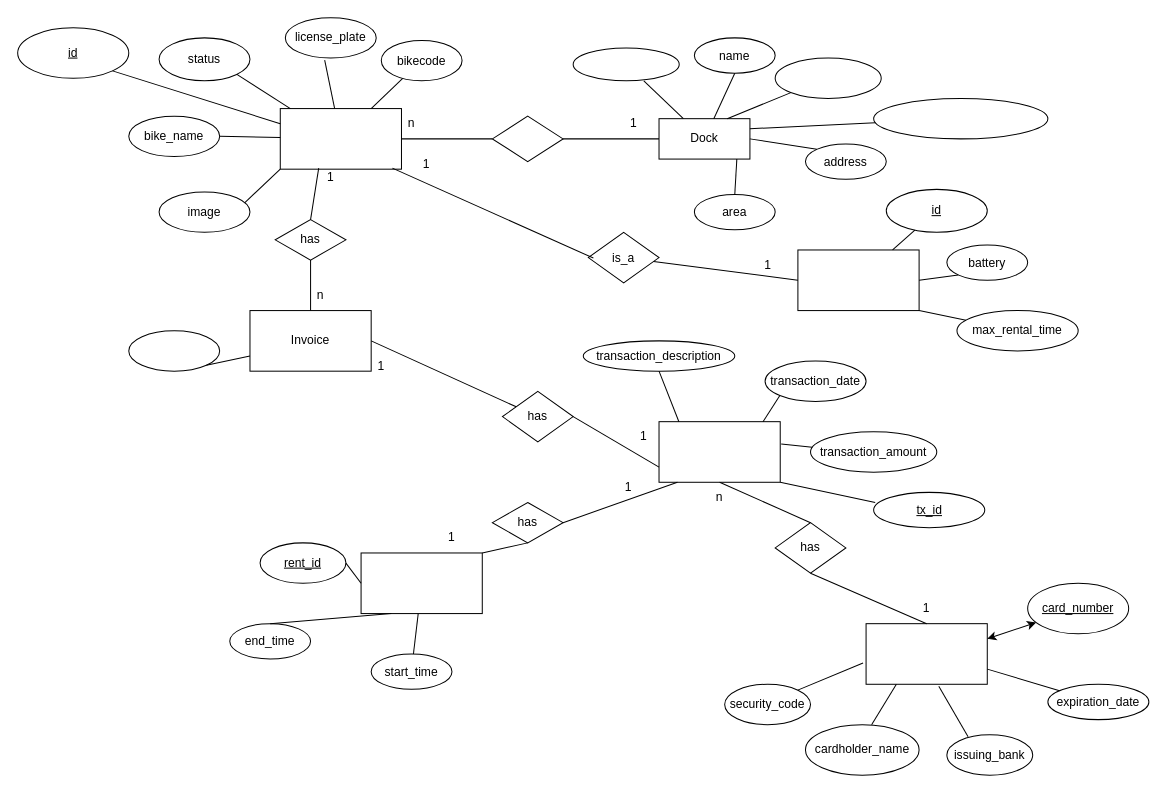
This 1167x793 diagram has some shape labels left out. Here are the shapes that lost their labels. From the top down, the centre of each, then its label:
the point at 625,64: number_of_bike
the point at 827,77: dock_id
the point at 340,138: Bike
the point at 527,138: at
the point at 960,118: number_of_empty_position
the point at 858,280: eBike
the point at 174,350: issued_time
the point at 719,451: Transaction
the point at 421,583: Rental
the point at 926,653: Card
